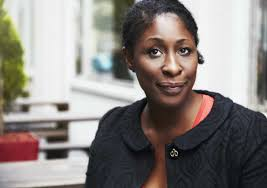no-mask: (120, 2, 204, 111)
